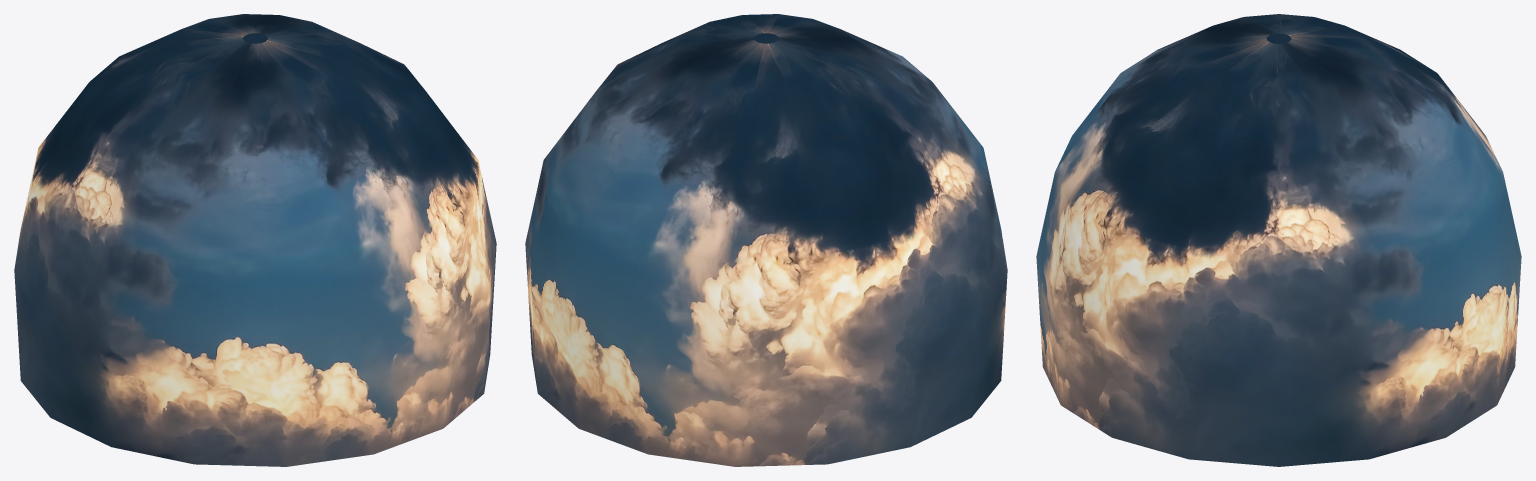
The model's file is skybox.glb.
3 views of the same model, side by side, from view 1: azimuth 30°, elevation 25°; view 2: azimuth 150°, elevation 25°; view 3: azimuth 270°, elevation 25° (orthographic).
Visible parts, largest first — view 1: Sphere; view 2: Sphere; view 3: Sphere.
Part boxes in pixels (x1,y1,x2,y2): Sphere: [14, 14, 496, 466]; Sphere: [525, 14, 1007, 466]; Sphere: [1036, 14, 1521, 466].
Bounding box in the file's own units: 800 × 598 × 800.
Materials: 1 (1 with a texture image).
